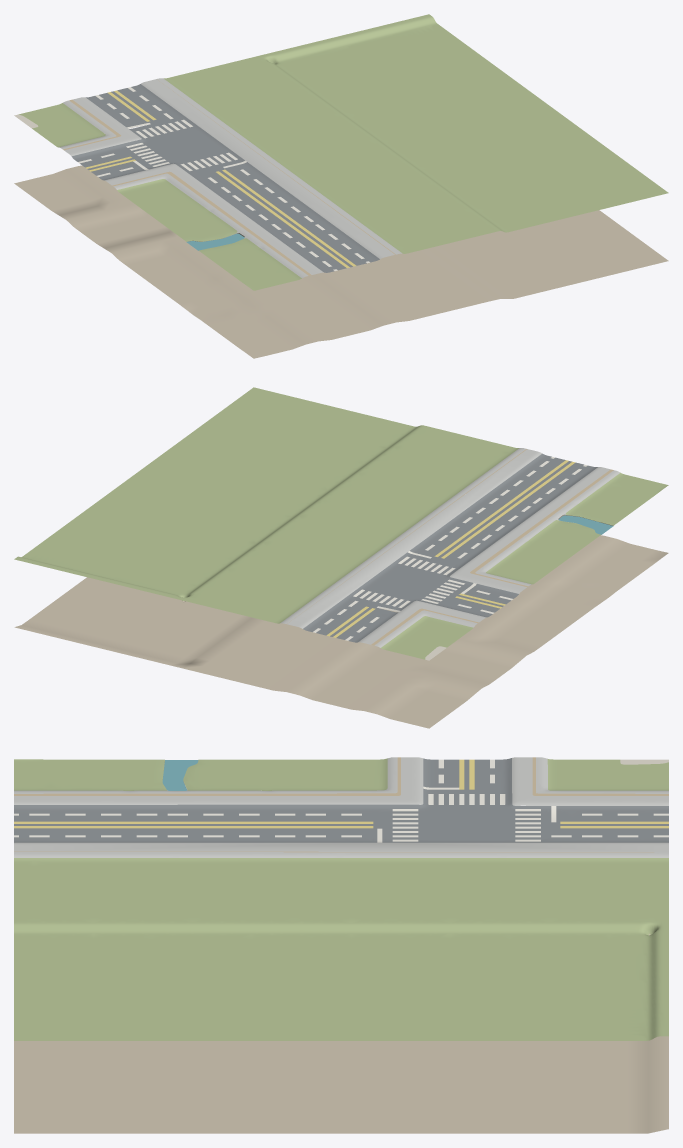
The picture shows the model from 3 angles, top to bottom: view 1: azimuth 30°, elevation 25°; view 2: azimuth 150°, elevation 25°; view 3: azimuth 270°, elevation 25°; orthographic projection. The views are drawn at different scales.
Parts seen in each view (by area): view 1: s_1_1__grass, s_1_1__soil, s_1_1__asphalt, s_1_1__stone_paving, s_1_1__white_marking, s_1_1__yellow_marking, s_1_1__timber_deck; view 2: s_1_1__grass, s_1_1__soil, s_1_1__asphalt, s_1_1__stone_paving, s_1_1__white_marking, s_1_1__yellow_marking, s_1_1__timber_deck; view 3: s_1_1__grass, s_1_1__soil, s_1_1__asphalt, s_1_1__stone_paving, s_1_1__white_marking, s_1_1__yellow_marking, s_1_1__timber_deck, s_1_1__water.
Part boxes in pixels (x1,y1,x2,y2): s_1_1__grass: (18,14,668,290); s_1_1__soil: (14,165,668,358); s_1_1__asphalt: (71,84,379,272); s_1_1__stone_paving: (58,78,402,278); s_1_1__white_marking: (78,87,369,270); s_1_1__yellow_marking: (85,90,356,267); s_1_1__timber_deck: (63,79,395,275); s_1_1__grass: (14,387,668,659); s_1_1__soil: (14,535,668,728); s_1_1__asphalt: (303,453,597,642); s_1_1__stone_paving: (280,448,620,647); s_1_1__white_marking: (313,456,587,640); s_1_1__yellow_marking: (326,460,575,637); s_1_1__timber_deck: (287,449,613,645); s_1_1__grass: (14,758,668,1040); s_1_1__soil: (14,934,668,1133); s_1_1__asphalt: (14,758,668,842); s_1_1__stone_paving: (14,757,668,857); s_1_1__white_marking: (14,759,668,842); s_1_1__yellow_marking: (14,759,668,828); s_1_1__timber_deck: (14,757,668,852); s_1_1__water: (162,760,198,790).
Bounding box in the file's own units: 128 × 21.51 × 128.
